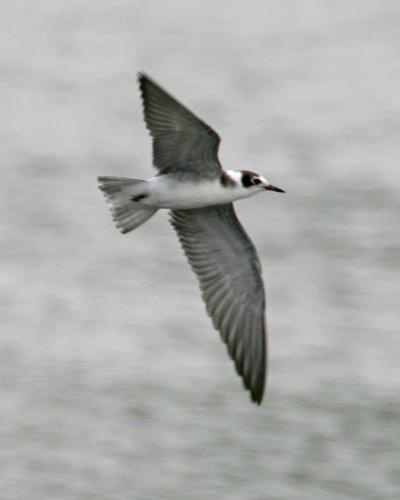bird: (97, 70, 283, 407)
